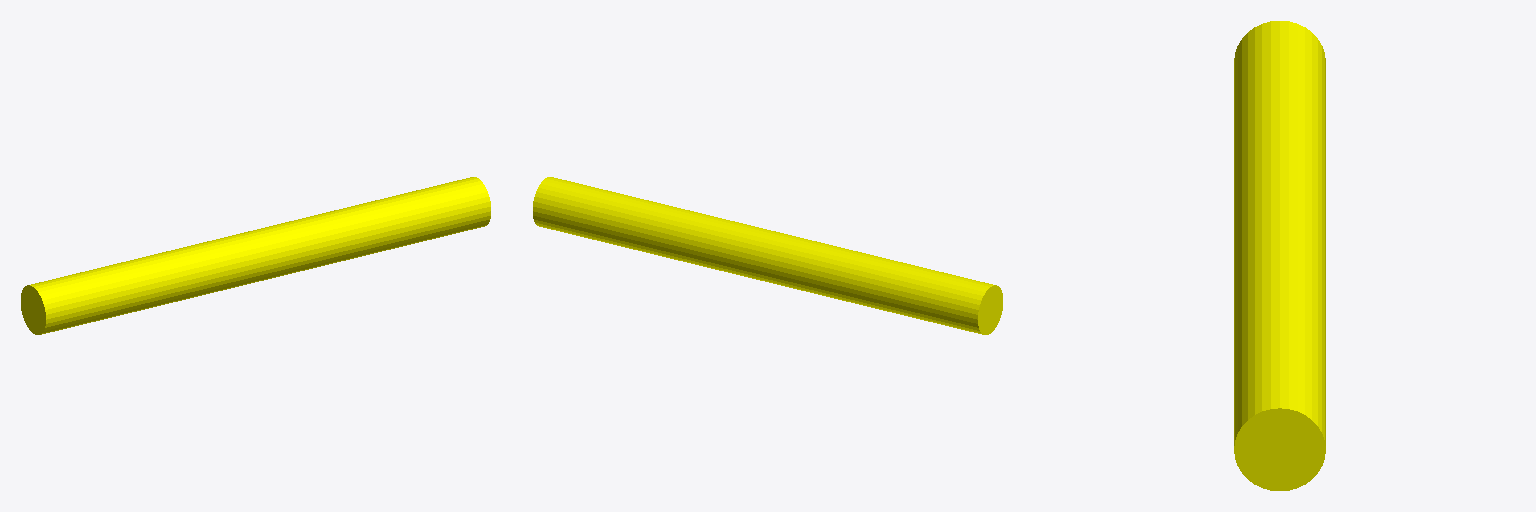
The robot description file, URDF, robot "physics":
<?xml version="1.0"?>
<robot name="physics">
  <link name="gripper_pole">
    <visual>
      <geometry>
        <cylinder length="0.2" radius=".01"/>
      </geometry>
      <origin rpy="0 1.57075 0 " xyz="0.1 0 0"/>
      <material name="Yellow">
        <color rgba="1 1 0 1"/>
      </material>
    </visual>
    <collision>
      <geometry>
        <cylinder length="0.2" radius=".01"/>
      </geometry>
      <origin rpy="0 1.57075 0 " xyz="0.1 0 0"/>
    </collision>
    <inertial>
      <mass value="0.5"/>
      <inertia ixx="1.0" ixy="0.0" ixz="0.0" iyy="1.0" iyz="0.0" izz="1.0"/>
    </inertial>
  </link>

  <joint name="left_gripper_joint" type="revolute">
    <axis xyz="0 0 1"/>
    <limit effort="1000.0" lower="-2.0" upper="2.548" velocity="0.5"/>
    <origin rpy="0 0 0" xyz="0.2 0.01 0"/>
    <parent link="gripper_pole"/>
    <child link="left_gripper"/>
  </joint>

  <link name="left_gripper">
    <contact>
      <lateral_friction value="1.0"/>
      <spinning_friction value="1.5"/>
    </contact>
    <visual>
      <origin rpy="0.0 0 0" xyz="0 0 0"/>
      <geometry>
        <mesh filename="l_finger_collision.stl"/>
      </geometry>
        <material name="Blue">
          <color rgba="0 1 0 1"/>
        </material>
    </visual>
    <collision>
      <origin rpy="0.0 0 0" xyz="0 0 0"/>
      <geometry>
        <mesh filename="l_finger_collision.stl"/>
      </geometry>
    </collision>
    <inertial>
      <mass value="0.1"/>
      <inertia ixx="1.0" ixy="0.0" ixz="0.0" iyy="1.0" iyz="0.0" izz="1.0"/>
    </inertial>
  </link>

  <joint name="left_tip_joint" type="fixed">
    <parent link="left_gripper"/>
    <child link="left_tip"/>
  </joint>

  <link name="left_tip">
    <contact>
      <lateral_friction value="1.0"/>
      <spinning_friction value="1.5"/>
    </contact>
    <visual>
      <origin rpy="0.0 0 0" xyz="0.09137 0.00495 0"/>
      <geometry>
        <mesh filename="l_finger_tip.stl"/>
      </geometry>
       <material name="Yellow">
         <color rgba="1 1 0 1"/>
       </material>
    </visual>
    <collision>
      <geometry>
        <box size=".03 .01 .02"/>
      </geometry>
      <origin rpy="0.0 0.0 0" xyz="0.105 -0.005 0"/>
    </collision>
    <inertial>
      <mass value="0.1"/>
      <inertia ixx="1.0" ixy="0.0" ixz="0.0" iyy="1.0" iyz="0.0" izz="1.0"/>
    </inertial>
  </link>

  <joint name="right_gripper_joint" type="revolute">
    <axis xyz="0 0 -1"/>
    <limit effort="1000.0" lower="-2.0" upper="2." velocity="0.5"/>
    <origin rpy="0 0 0" xyz="0.2 -0.01 0"/>
    <parent link="gripper_pole"/>
    <child link="right_gripper"/>
  </joint>

  <link name="right_gripper">
    <contact>
      <lateral_friction value="1.0"/>
      <spinning_friction value="1.5"/>
    </contact>
    <visual>
      <origin rpy="-3.1415 0 0" xyz="0 0 0"/>
      <geometry>
        <mesh filename="l_finger_collision.stl"/>
      </geometry>
      <material name="Blue">
        <color rgba="0 0 1 1"/>
      </material>
    </visual>

         <collision>
      <origin rpy="-3.1415 0 0" xyz="0 0 0"/>
      <geometry>
        <mesh filename="l_finger_collision.stl"/>
      </geometry>
    </collision>
    <inertial>
      <mass value="0.1"/>
      <inertia ixx="1.0" ixy="0.0" ixz="0.0" iyy="1.0" iyz="0.0" izz="1.0"/>
    </inertial>
  </link>

  <joint name="right_tip_joint" type="fixed">
    <parent link="right_gripper"/>
    <child link="right_tip"/>
  </joint>

  <link name="right_tip">
    <contact>
      <lateral_friction value="1.0"/>
      <spinning_friction value="1.5"/>
    </contact>
    <visual>
      <origin rpy="-3.1415 0 0" xyz="0.09137 0.00495 0"/>
      <geometry>
        <mesh filename="l_finger_tip.stl"/>
      </geometry>
     <material name="Yellow">
       <color rgba="1 1 0 1"/>
     </material>
    </visual>
    <collision>
      <geometry>
      	<box size=".03 .01 .02"/>
      </geometry>
      <origin rpy="-3.1415 0 0" xyz="0.105 0.015 0"/>
    </collision>
	<collision>
      <geometry>
        <box size=".01 .02 .02"/>
      </geometry>
      <origin rpy="-3.1415 0 -0.5" xyz="0.095 0.005 0"/>
    </collision>

    <inertial>
      <mass value="0.1"/>
      <inertia ixx="1.0" ixy="0.0" ixz="0.0" iyy="1.0" iyz="0.0" izz="1.0"/>
    </inertial>
  </link>
</robot>

--- What the picture shows (computed from the rendered views, not written in the file) ---
3 views of the same robot in one strip: view 1: azimuth 30°, elevation 25°; view 2: azimuth 150°, elevation 25°; view 3: azimuth 270°, elevation 25° (orthographic).
Robot: physics — 5 links, 4 joints (2 revolute, 2 fixed); root link gripper_pole; default pose: every joint at zero.
Links seen in each view (by area): view 1: gripper_pole; view 2: gripper_pole; view 3: gripper_pole.
Boxes of the visible links, x1,y1,x2,y2 form: gripper_pole: (21, 177, 490, 334); gripper_pole: (533, 177, 1002, 334); gripper_pole: (1234, 21, 1325, 490).
Bounding box of the posed robot: 0.2 × 0.02 × 0.02 m (x, y, z).
0 mesh visuals loaded from 2 distinct referenced files (none loaded); not drawn: 4 (reference not matched to a file when rendering).